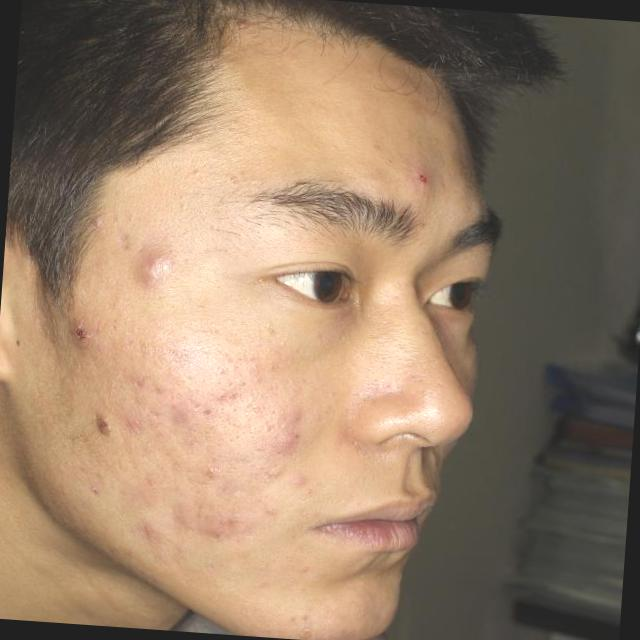acne: (128, 512, 177, 554), (132, 253, 178, 286), (206, 508, 253, 538), (65, 310, 101, 348), (173, 500, 202, 527), (402, 162, 432, 188), (89, 405, 118, 430), (130, 410, 154, 436), (114, 370, 145, 388), (278, 424, 301, 448), (134, 474, 161, 492), (286, 473, 313, 489), (168, 407, 188, 426), (212, 383, 234, 399)
